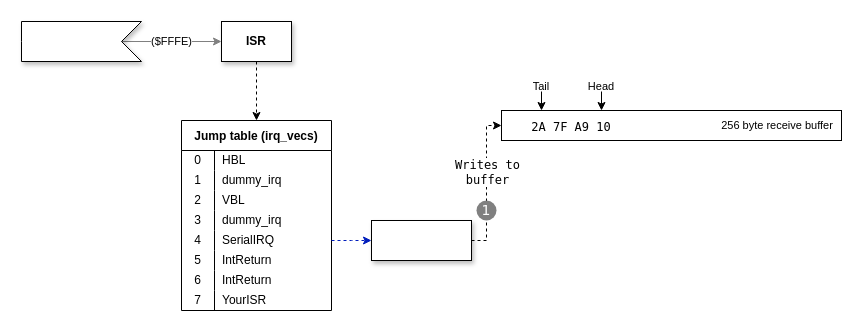
Some shapes in this 859 by 328 pixel diagram are drawn without their labels. The centre of each missing label's shape, as x and y in pixels:
"Serial timer" goes at (82,42).
"SerialIRQ::" goes at (422,242).
